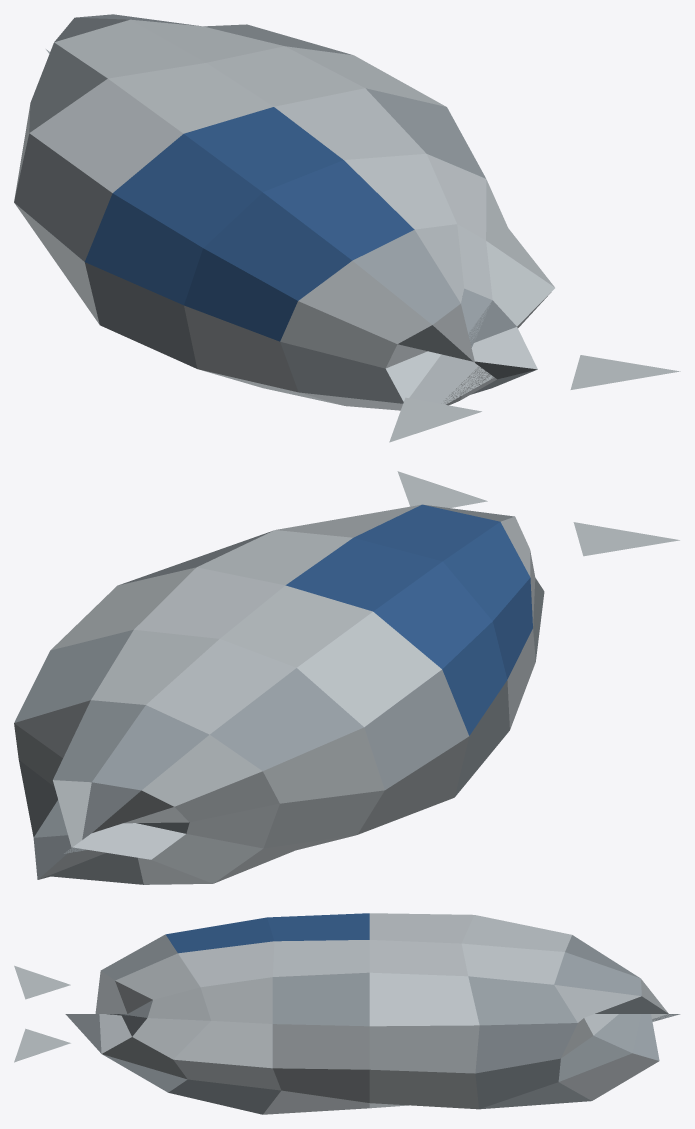
The model's file is plastik.fbx.
The picture shows the model from 3 angles, top to bottom: view 1: azimuth 30°, elevation 25°; view 2: azimuth 150°, elevation 25°; view 3: azimuth 270°, elevation 25°; orthographic projection. The views are drawn at different scales.
Parts seen in each view (by area): view 1: plastik; view 2: plastik; view 3: plastik.
Boxes of the visible parts, bbox=[...] form: plastik: bbox=[14, 14, 680, 442]; plastik: bbox=[14, 471, 679, 884]; plastik: bbox=[14, 913, 680, 1114].
Bounding box in the file's own units: 0.5046 × 0.3005 × 1.16.
